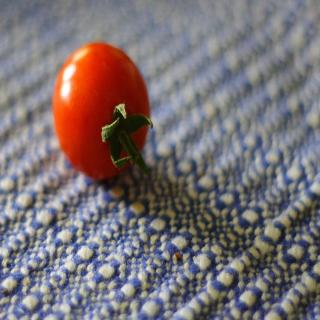tomato: (49, 39, 153, 178)
